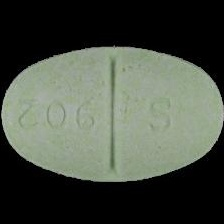60429-504: (0, 0, 224, 224)
